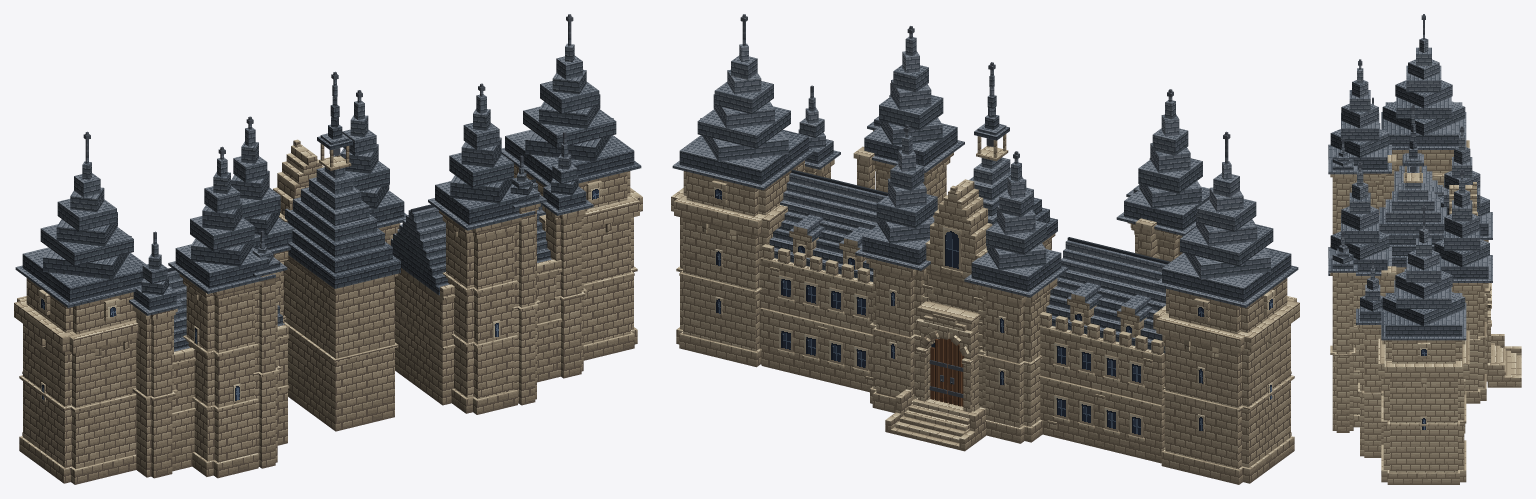
Rendered from hub_castle.glb.
The picture shows the model from 3 angles, left to right: view 1: azimuth 30°, elevation 25°; view 2: azimuth 150°, elevation 25°; view 3: azimuth 270°, elevation 25°; orthographic projection. The views are drawn at different scales.
Visible parts, largest first — view 1: hub_castle; view 2: hub_castle; view 3: hub_castle.
Part boxes in pixels (x1,y1,x2,y2): hub_castle: (14,14,642,484); hub_castle: (671,14,1299,484); hub_castle: (1328,14,1521,484).
Bounding box in the file's own units: 15.94 × 8.66 × 5.69.
1 material, 1 textured.
